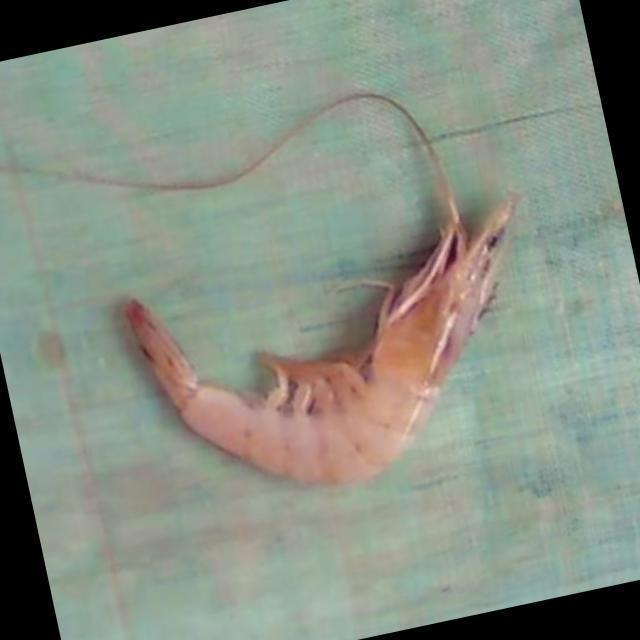shrimp: (124, 195, 517, 484)
